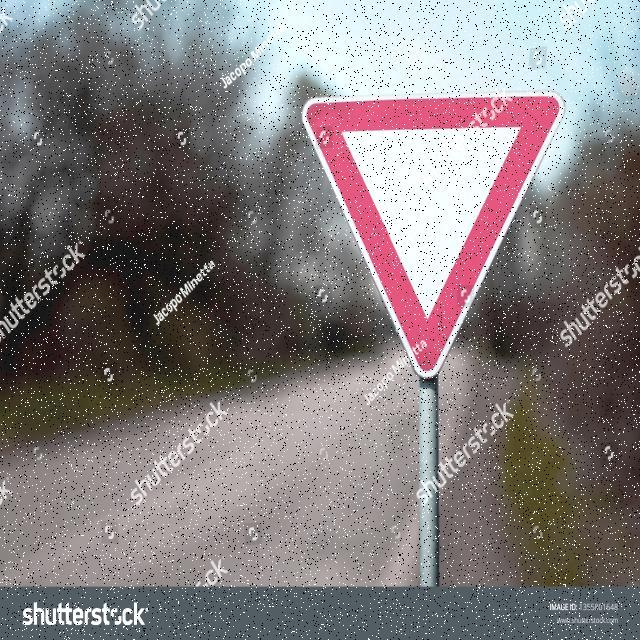Traffic sign: (294, 88, 569, 388)
